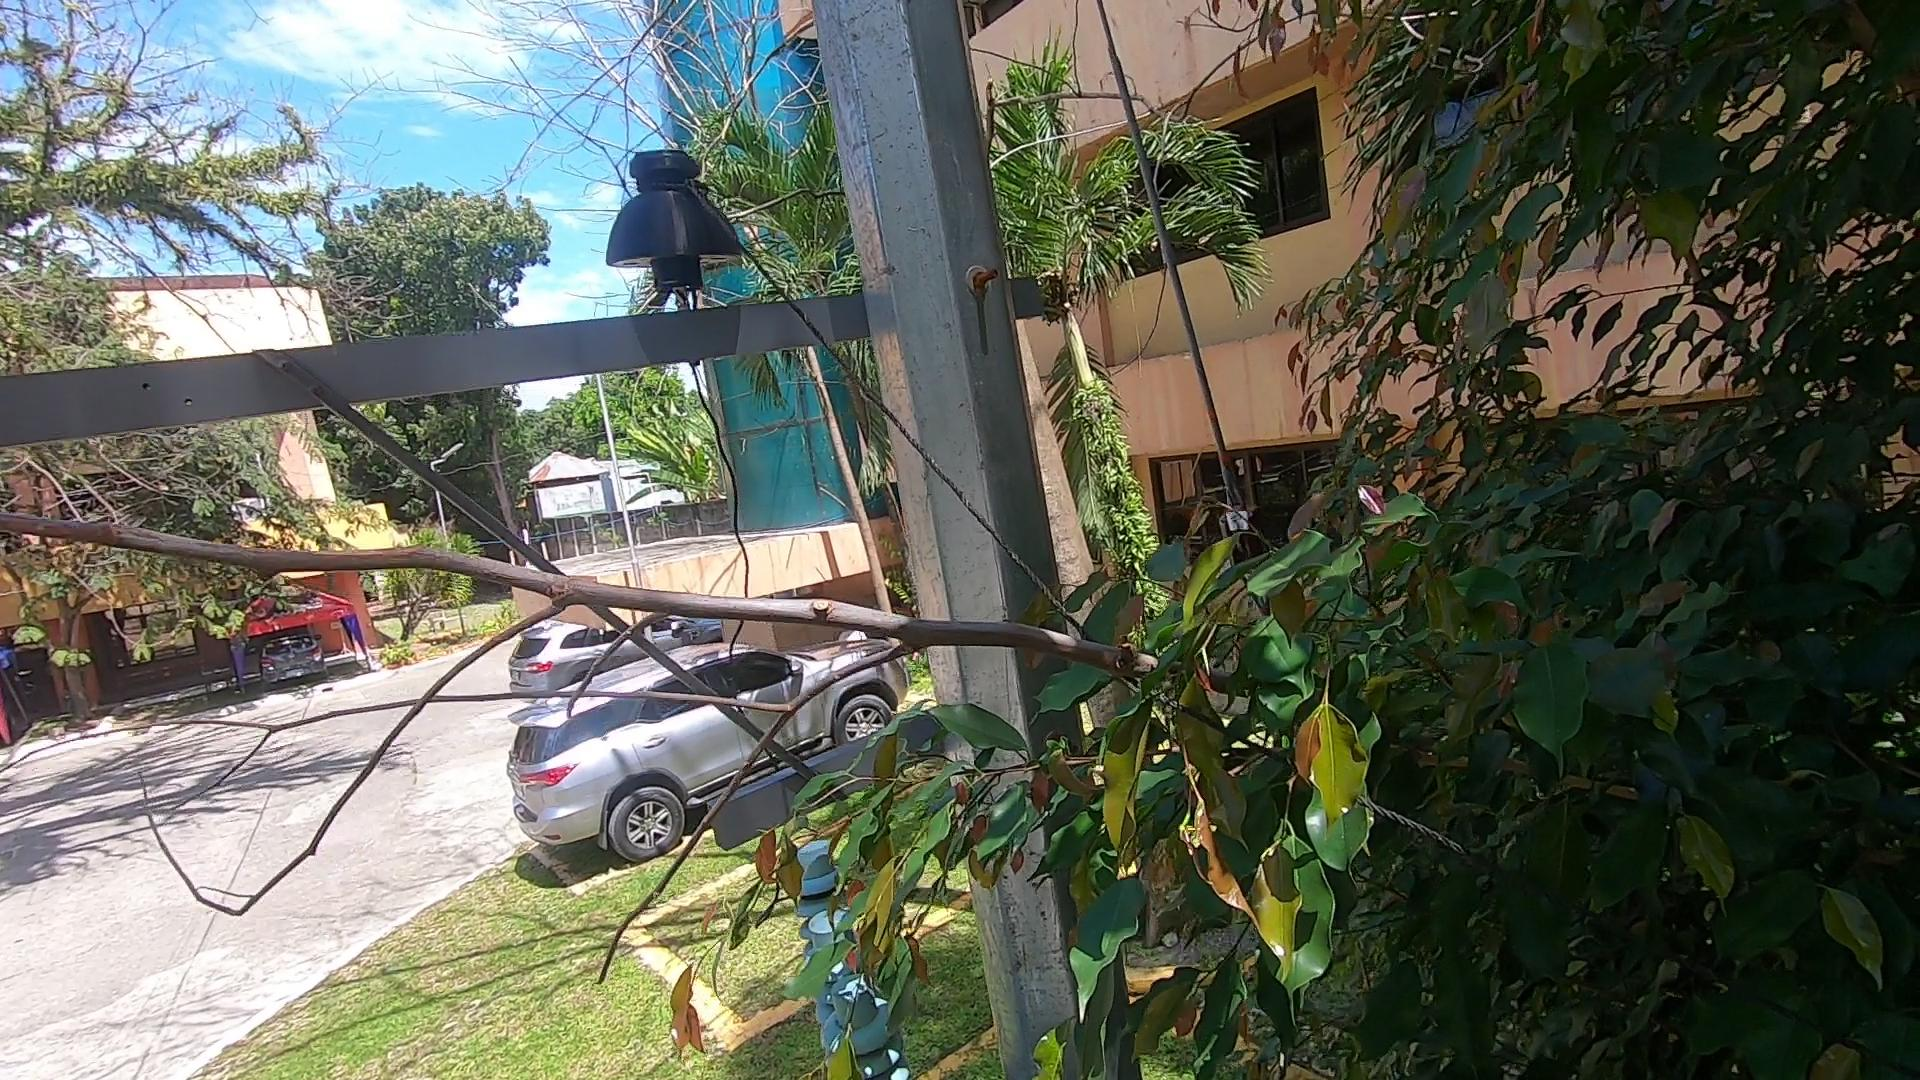tree branch: (1, 500, 1208, 984)
